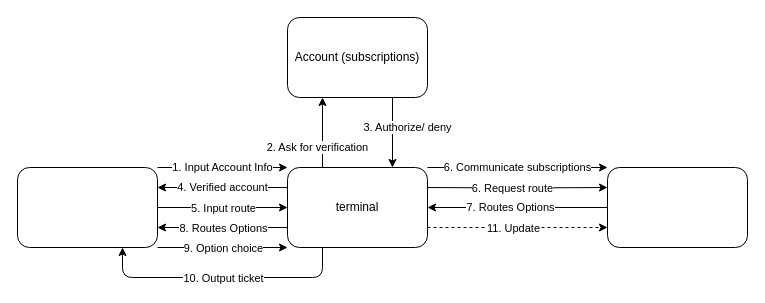
Some shapes in this 765 by 303 pixel diagram are drawn without their labels. The shapes that lost their labels are listed below. From the top down, each one's centre as x and y in pixels, then its label:
the point at 87,207: user
the point at 677,207: Routes management
